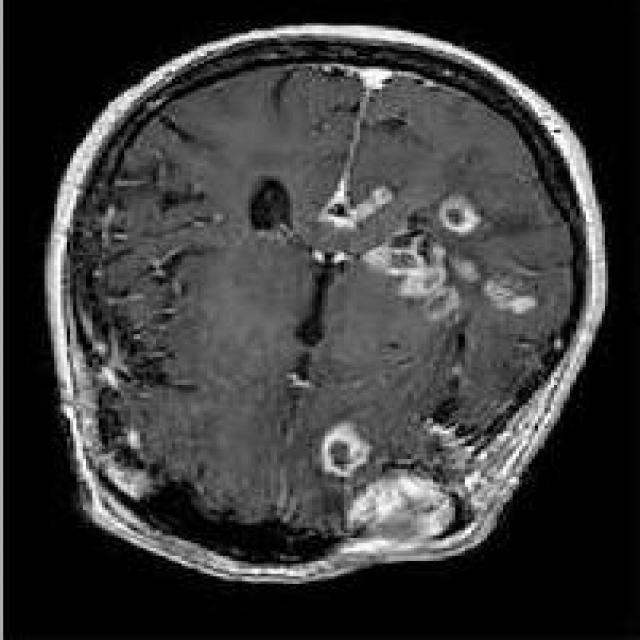Tumor: (349, 473, 456, 541), (322, 434, 369, 477), (443, 203, 481, 235)
